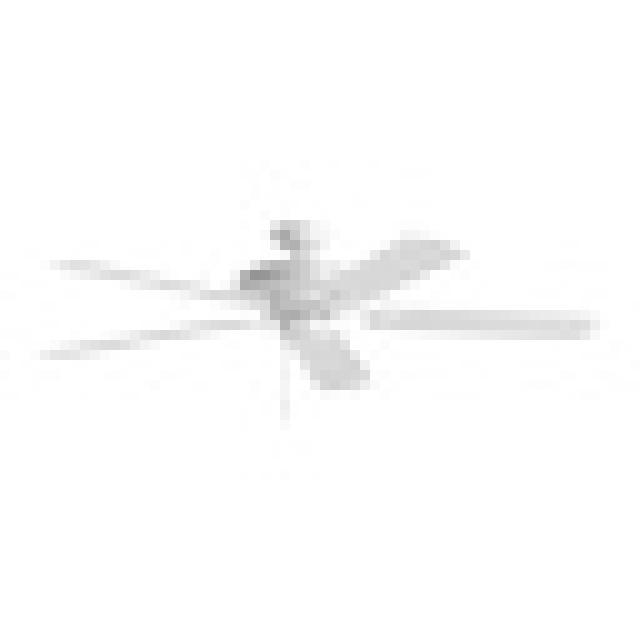Bulb: (26, 188, 635, 454)
